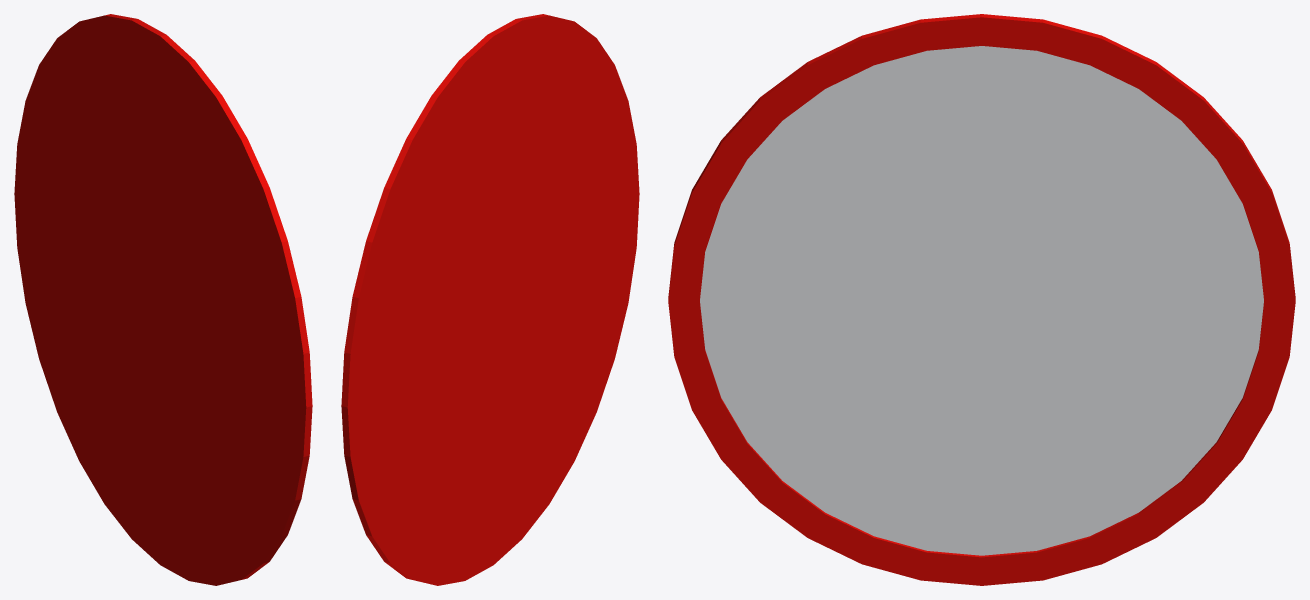
The model's file is K2_Cir.fbx.
3 renders of one model, left to right at view 1: azimuth 30°, elevation 25°; view 2: azimuth 150°, elevation 25°; view 3: azimuth 270°, elevation 25°, orthographic. The views are drawn at different scales.
Visible parts, largest first — view 1: Cir; view 2: Cir; view 3: Cir.
Boxes of the visible parts, bbox=[...] form: Cir: bbox=[14, 14, 312, 585]; Cir: bbox=[341, 14, 639, 585]; Cir: bbox=[668, 14, 1295, 585].
Size of the model in its own units: 1 by 80 by 80.
